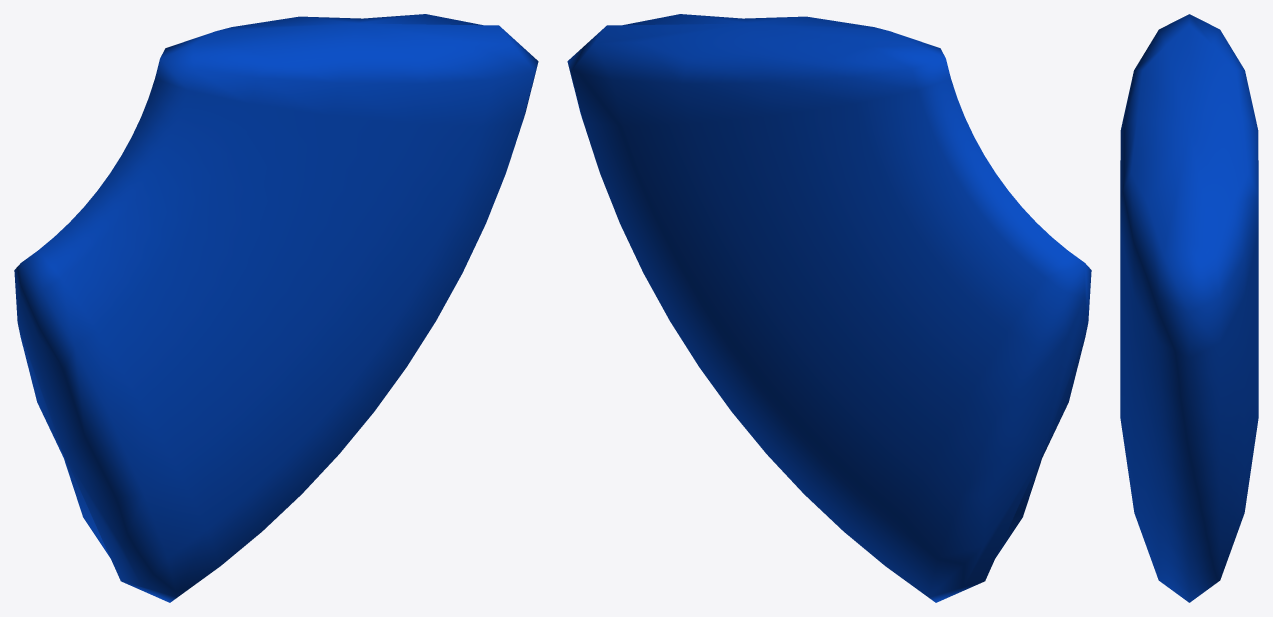
File: Blue.glb
The picture shows the model from 3 angles, left to right: view 1: azimuth 30°, elevation 25°; view 2: azimuth 150°, elevation 25°; view 3: azimuth 270°, elevation 25°; orthographic projection. The views are drawn at different scales.
Parts seen in each view (by area): view 1: Blue; view 2: Blue; view 3: Blue.
Part boxes in pixels (left/top/right/bottom): Blue: left=14, top=14, right=538, bottom=602; Blue: left=567, top=14, right=1091, bottom=602; Blue: left=1120, top=14, right=1258, bottom=602.
Bounding box in the file's own units: 82.58 × 84.19 × 17.92.
